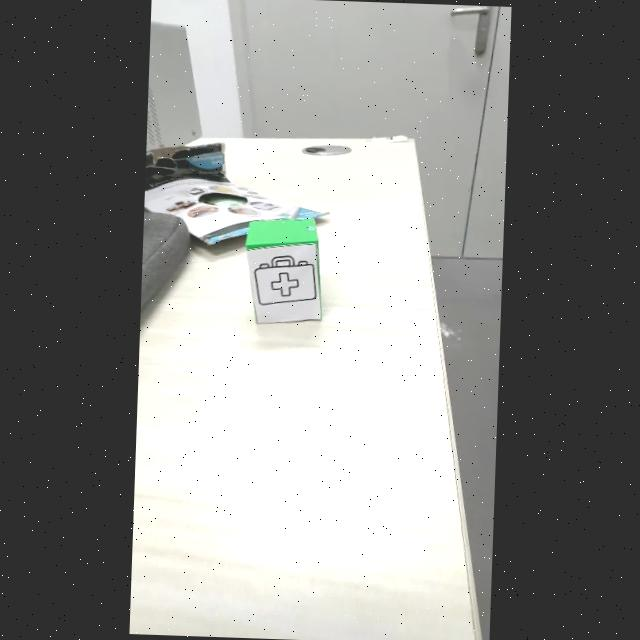Medkit: (254, 255, 315, 307)
